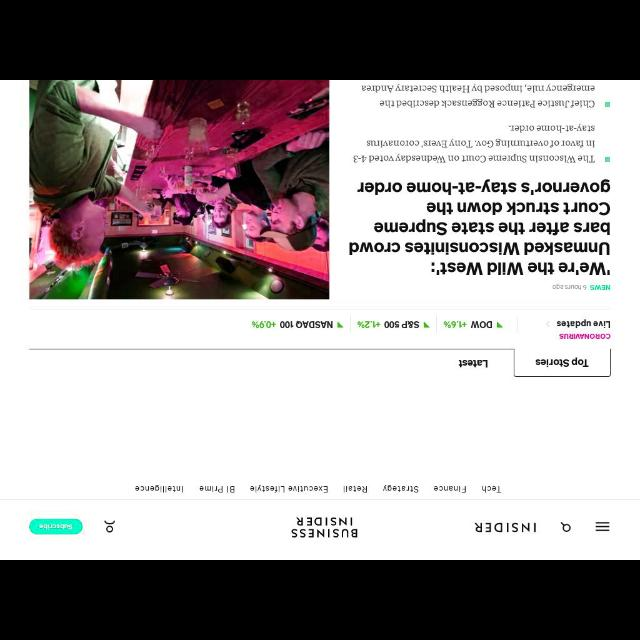icon: (596, 520, 610, 532), (105, 520, 115, 532), (562, 522, 570, 532), (497, 322, 503, 328), (422, 322, 428, 328), (604, 156, 610, 162), (604, 102, 610, 108), (338, 322, 342, 328)
multitab: (1, 479, 639, 499)
text: (348, 184, 610, 276), (352, 122, 594, 164), (360, 81, 596, 107), (290, 516, 358, 538), (250, 484, 328, 494), (474, 522, 536, 534), (534, 356, 590, 368), (556, 319, 612, 329), (558, 331, 612, 341), (280, 320, 332, 330), (135, 483, 185, 493), (198, 482, 236, 494), (456, 358, 492, 368), (434, 484, 468, 494), (380, 485, 420, 493), (384, 321, 421, 329), (552, 282, 586, 290), (38, 522, 72, 530), (444, 319, 466, 331), (358, 318, 380, 329), (251, 320, 275, 330), (342, 483, 368, 492), (471, 320, 492, 330), (482, 484, 502, 494), (590, 284, 612, 290)
textbutton: (29, 518, 83, 534)
toolbar: (1, 500, 639, 560)
